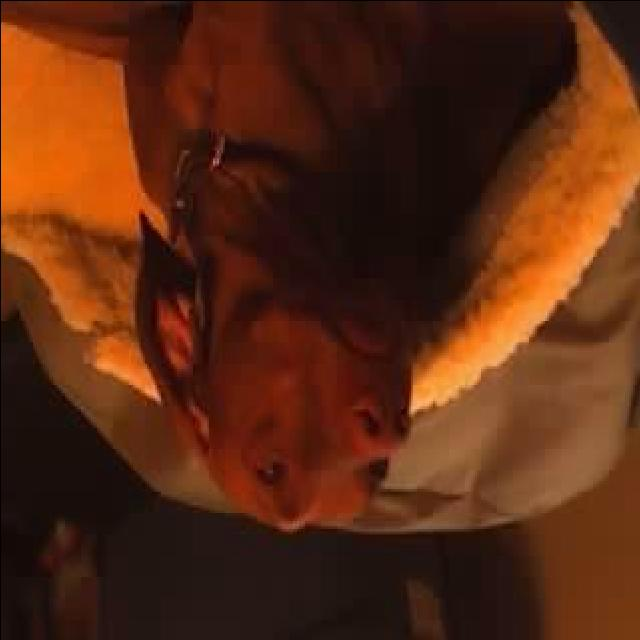vizsla: (112, 2, 578, 530)
